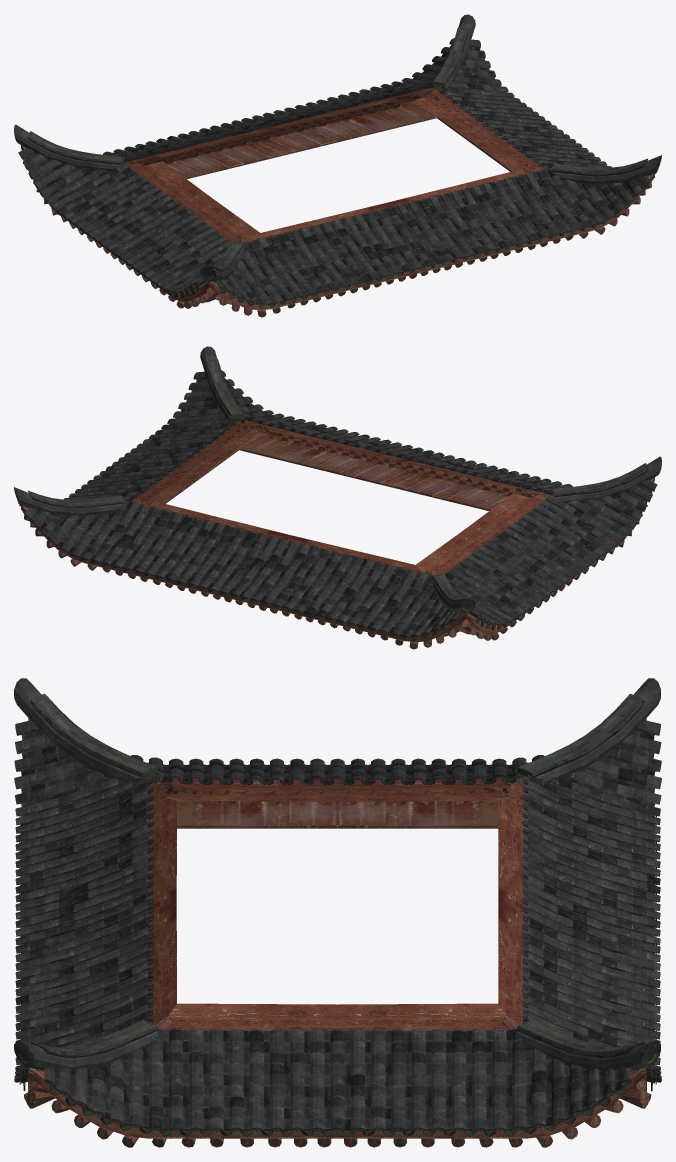
The model's file is WaDing_3.fbx.
3 views of the same model, one above another, from view 1: azimuth 30°, elevation 25°; view 2: azimuth 150°, elevation 25°; view 3: azimuth 270°, elevation 25° (orthographic). The views are drawn at different scales.
Visible parts, largest first — view 1: 3D_WaDing3.mo; view 2: 3D_WaDing3.mo; view 3: 3D_WaDing3.mo.
Boxes of the visible parts, left/top/right/bottom form: 3D_WaDing3.mo: left=14, top=14, right=661, bottom=317; 3D_WaDing3.mo: left=14, top=346, right=661, bottom=649; 3D_WaDing3.mo: left=14, top=678, right=661, bottom=1147.
Bounding box in the file's own units: 1359 × 191 × 1007.
Materials: 2 (2 with a texture image).
